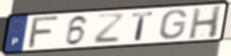6: (65, 15, 88, 46)
F: (26, 15, 63, 50)
G: (158, 9, 189, 41)
H: (187, 5, 223, 40)
T: (131, 11, 155, 42)
Z: (92, 13, 127, 45)
